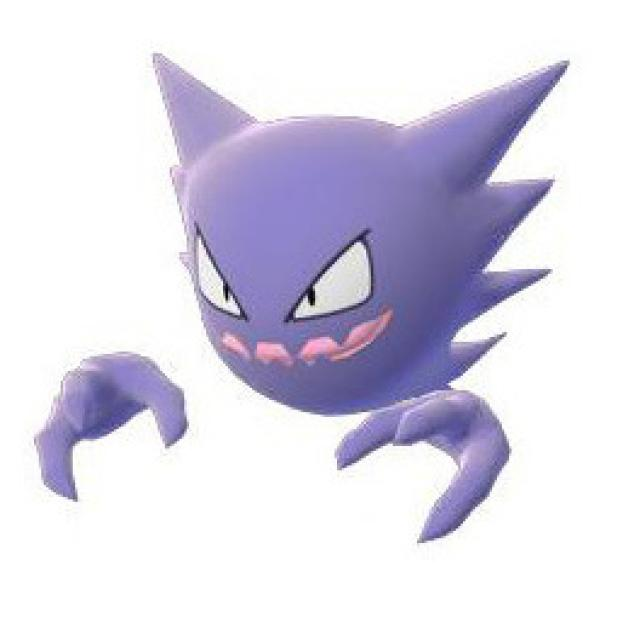Haunter: (88, 50, 542, 480)
